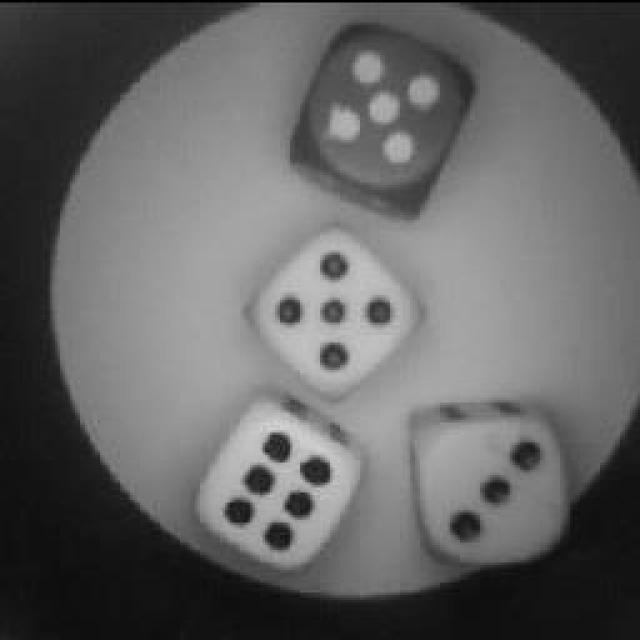dice_3: (408, 392, 572, 570)
dice_5: (290, 18, 472, 200), (250, 232, 418, 392)
dice_6: (197, 390, 365, 565)
